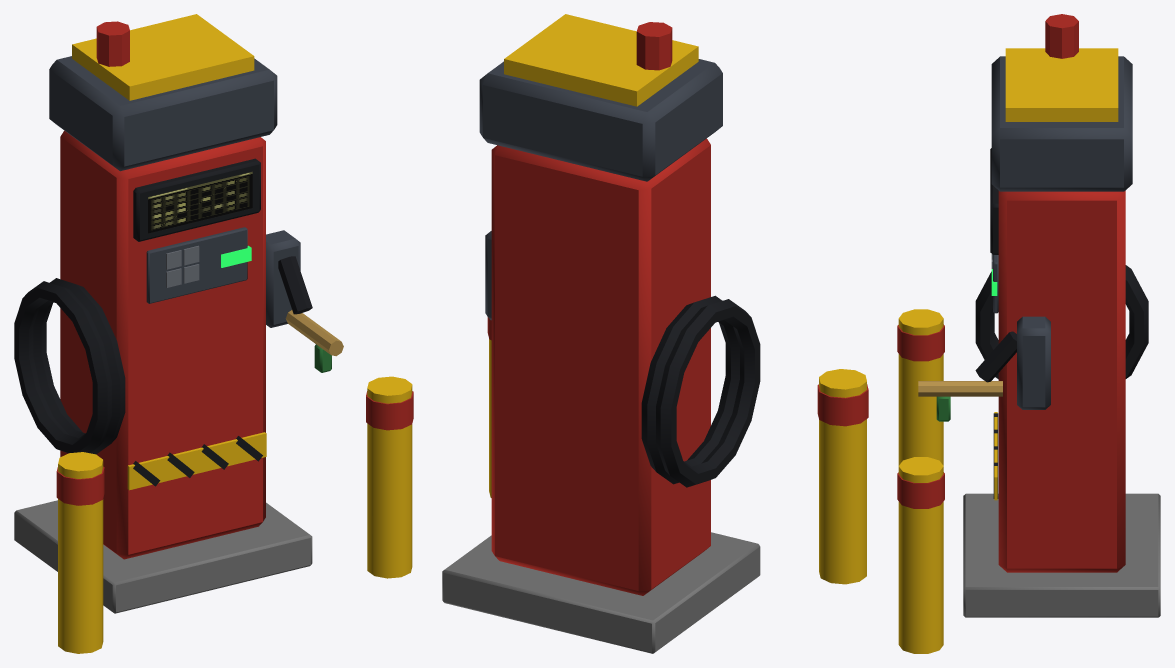
Rendered from hangartool_refuelling_pump.glb.
3 views of the same model, side by side, from view 1: azimuth 30°, elevation 25°; view 2: azimuth 150°, elevation 25°; view 3: azimuth 270°, elevation 25° (orthographic). The views are drawn at different scales.
Parts seen in each view (by area): view 1: hangartool_refuelling_pump; view 2: hangartool_refuelling_pump; view 3: hangartool_refuelling_pump.
Boxes of the visible parts, x1,y1,x2,y2 form: hangartool_refuelling_pump: (14, 14, 413, 653); hangartool_refuelling_pump: (442, 14, 868, 653); hangartool_refuelling_pump: (897, 14, 1160, 653).
Bounding box in the file's own units: 1.4 × 2.06 × 0.935.
Materials: 10 (1 with a texture image).
